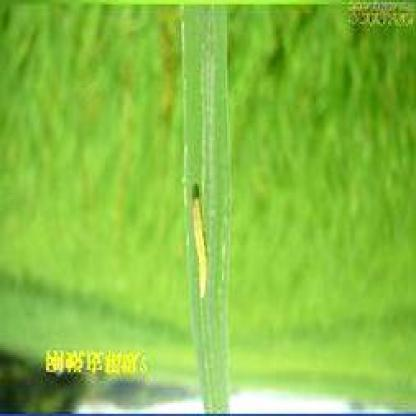leaf-folder: (182, 184, 223, 308)
